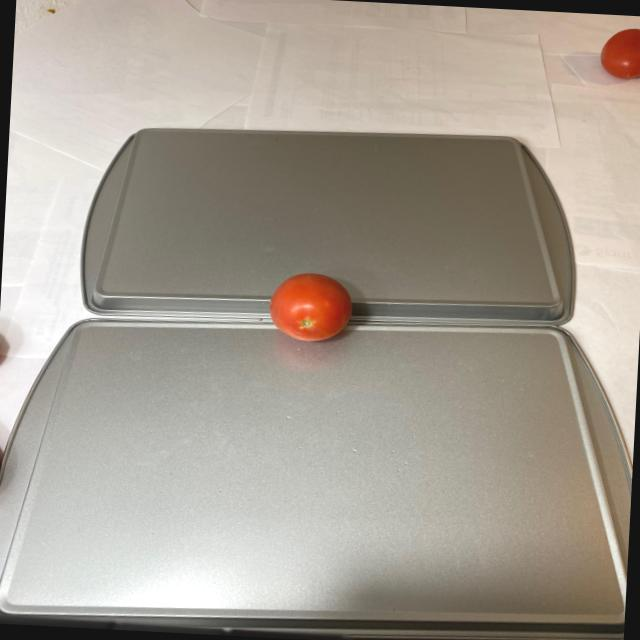tomato: (262, 268, 361, 344), (593, 24, 640, 90)
